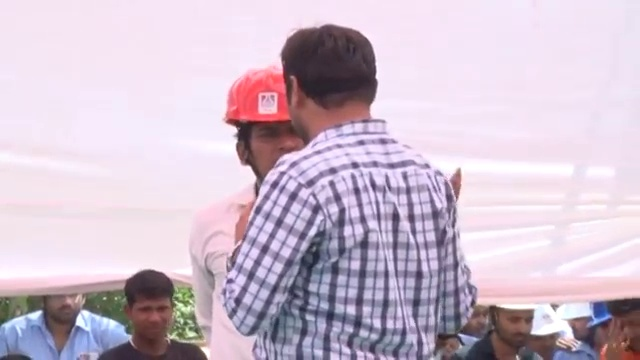helmet: (219, 62, 307, 132), (526, 306, 564, 337)
helmet_off: (274, 22, 381, 150), (123, 279, 175, 339), (45, 285, 90, 336), (606, 298, 640, 353), (497, 305, 539, 338), (462, 300, 489, 338)
helmet_on: (221, 65, 303, 179), (521, 304, 565, 357)
person: (221, 22, 477, 360), (189, 64, 310, 354), (0, 287, 129, 358), (98, 279, 207, 360), (464, 304, 545, 360), (556, 303, 612, 347)
